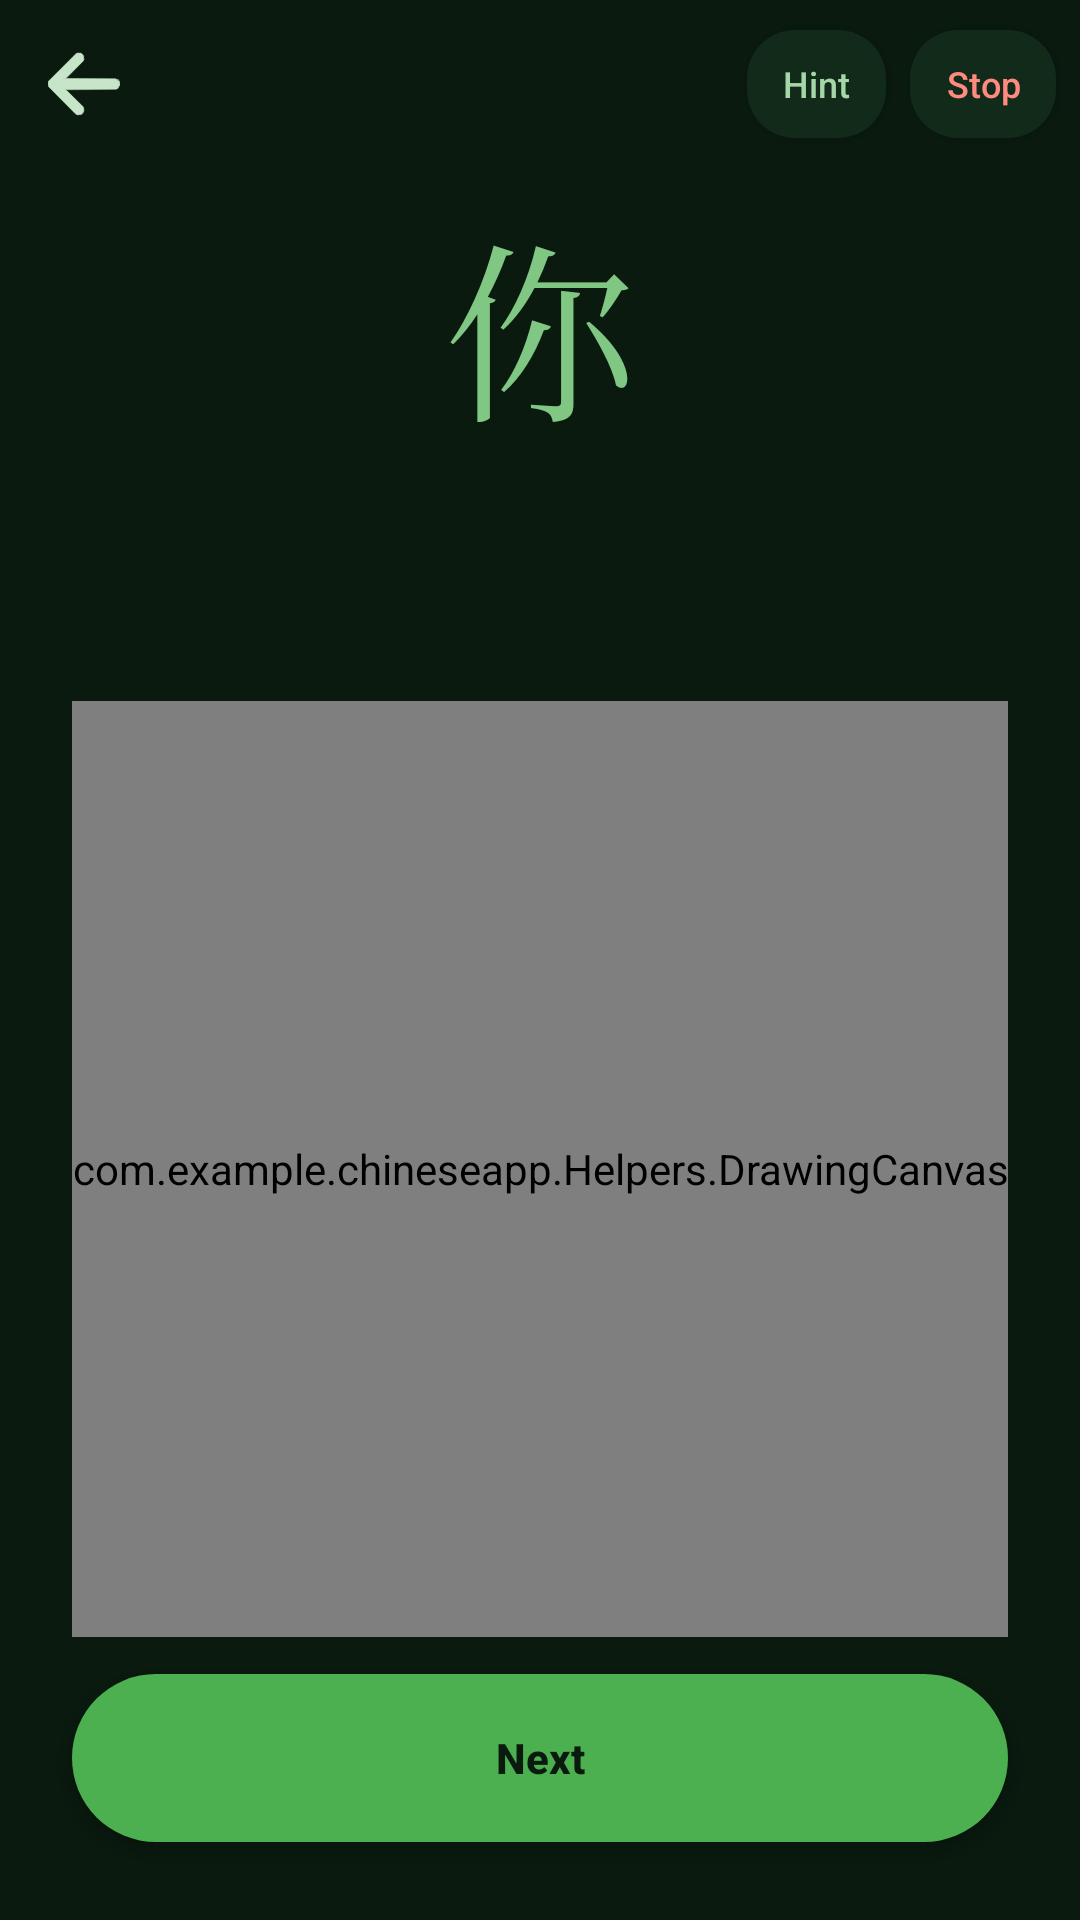

Named icons in this screenshot (1080×1920) and their centers, (x=x, y=y):
back: (x=84, y=84)
